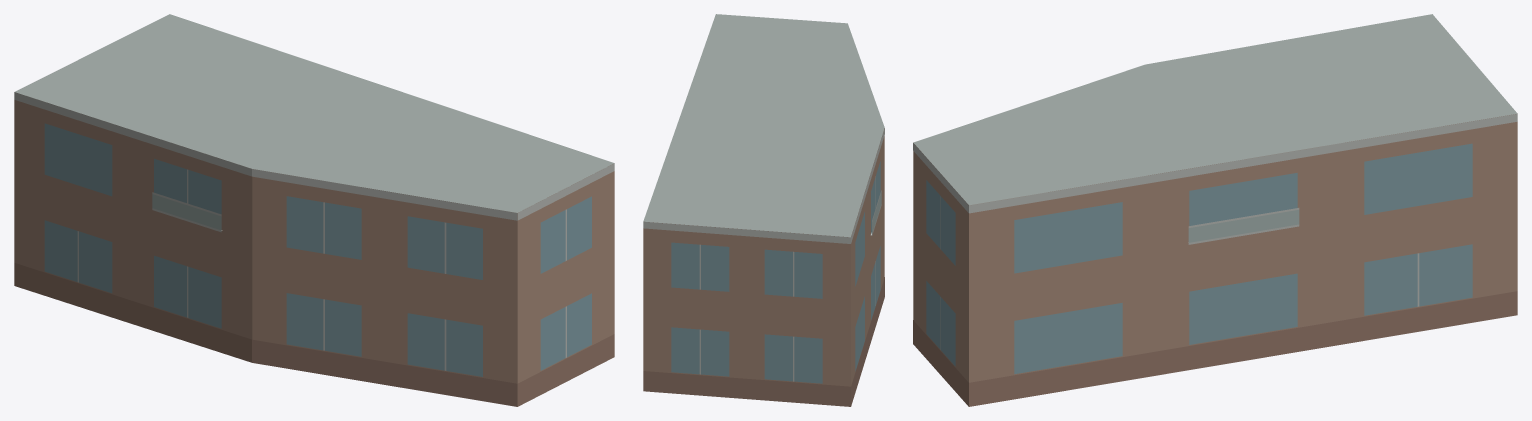
Rendered from survey-upis-32758476.glb.
3 views of the same model, side by side, from view 1: azimuth 30°, elevation 25°; view 2: azimuth 150°, elevation 25°; view 3: azimuth 270°, elevation 25° (orthographic). The views are drawn at different scales.
Parts seen in each view (by area): view 1: survey-upis-32758476.tmp; view 2: survey-upis-32758476.tmp; view 3: survey-upis-32758476.tmp.
Boxes of the visible parts, x1,y1,x2,y2 form: survey-upis-32758476.tmp: (14,14,614,406); survey-upis-32758476.tmp: (643,14,884,406); survey-upis-32758476.tmp: (913,14,1517,406).
Bounding box in the file's own units: 12.44 × 6.1 × 16.6.
